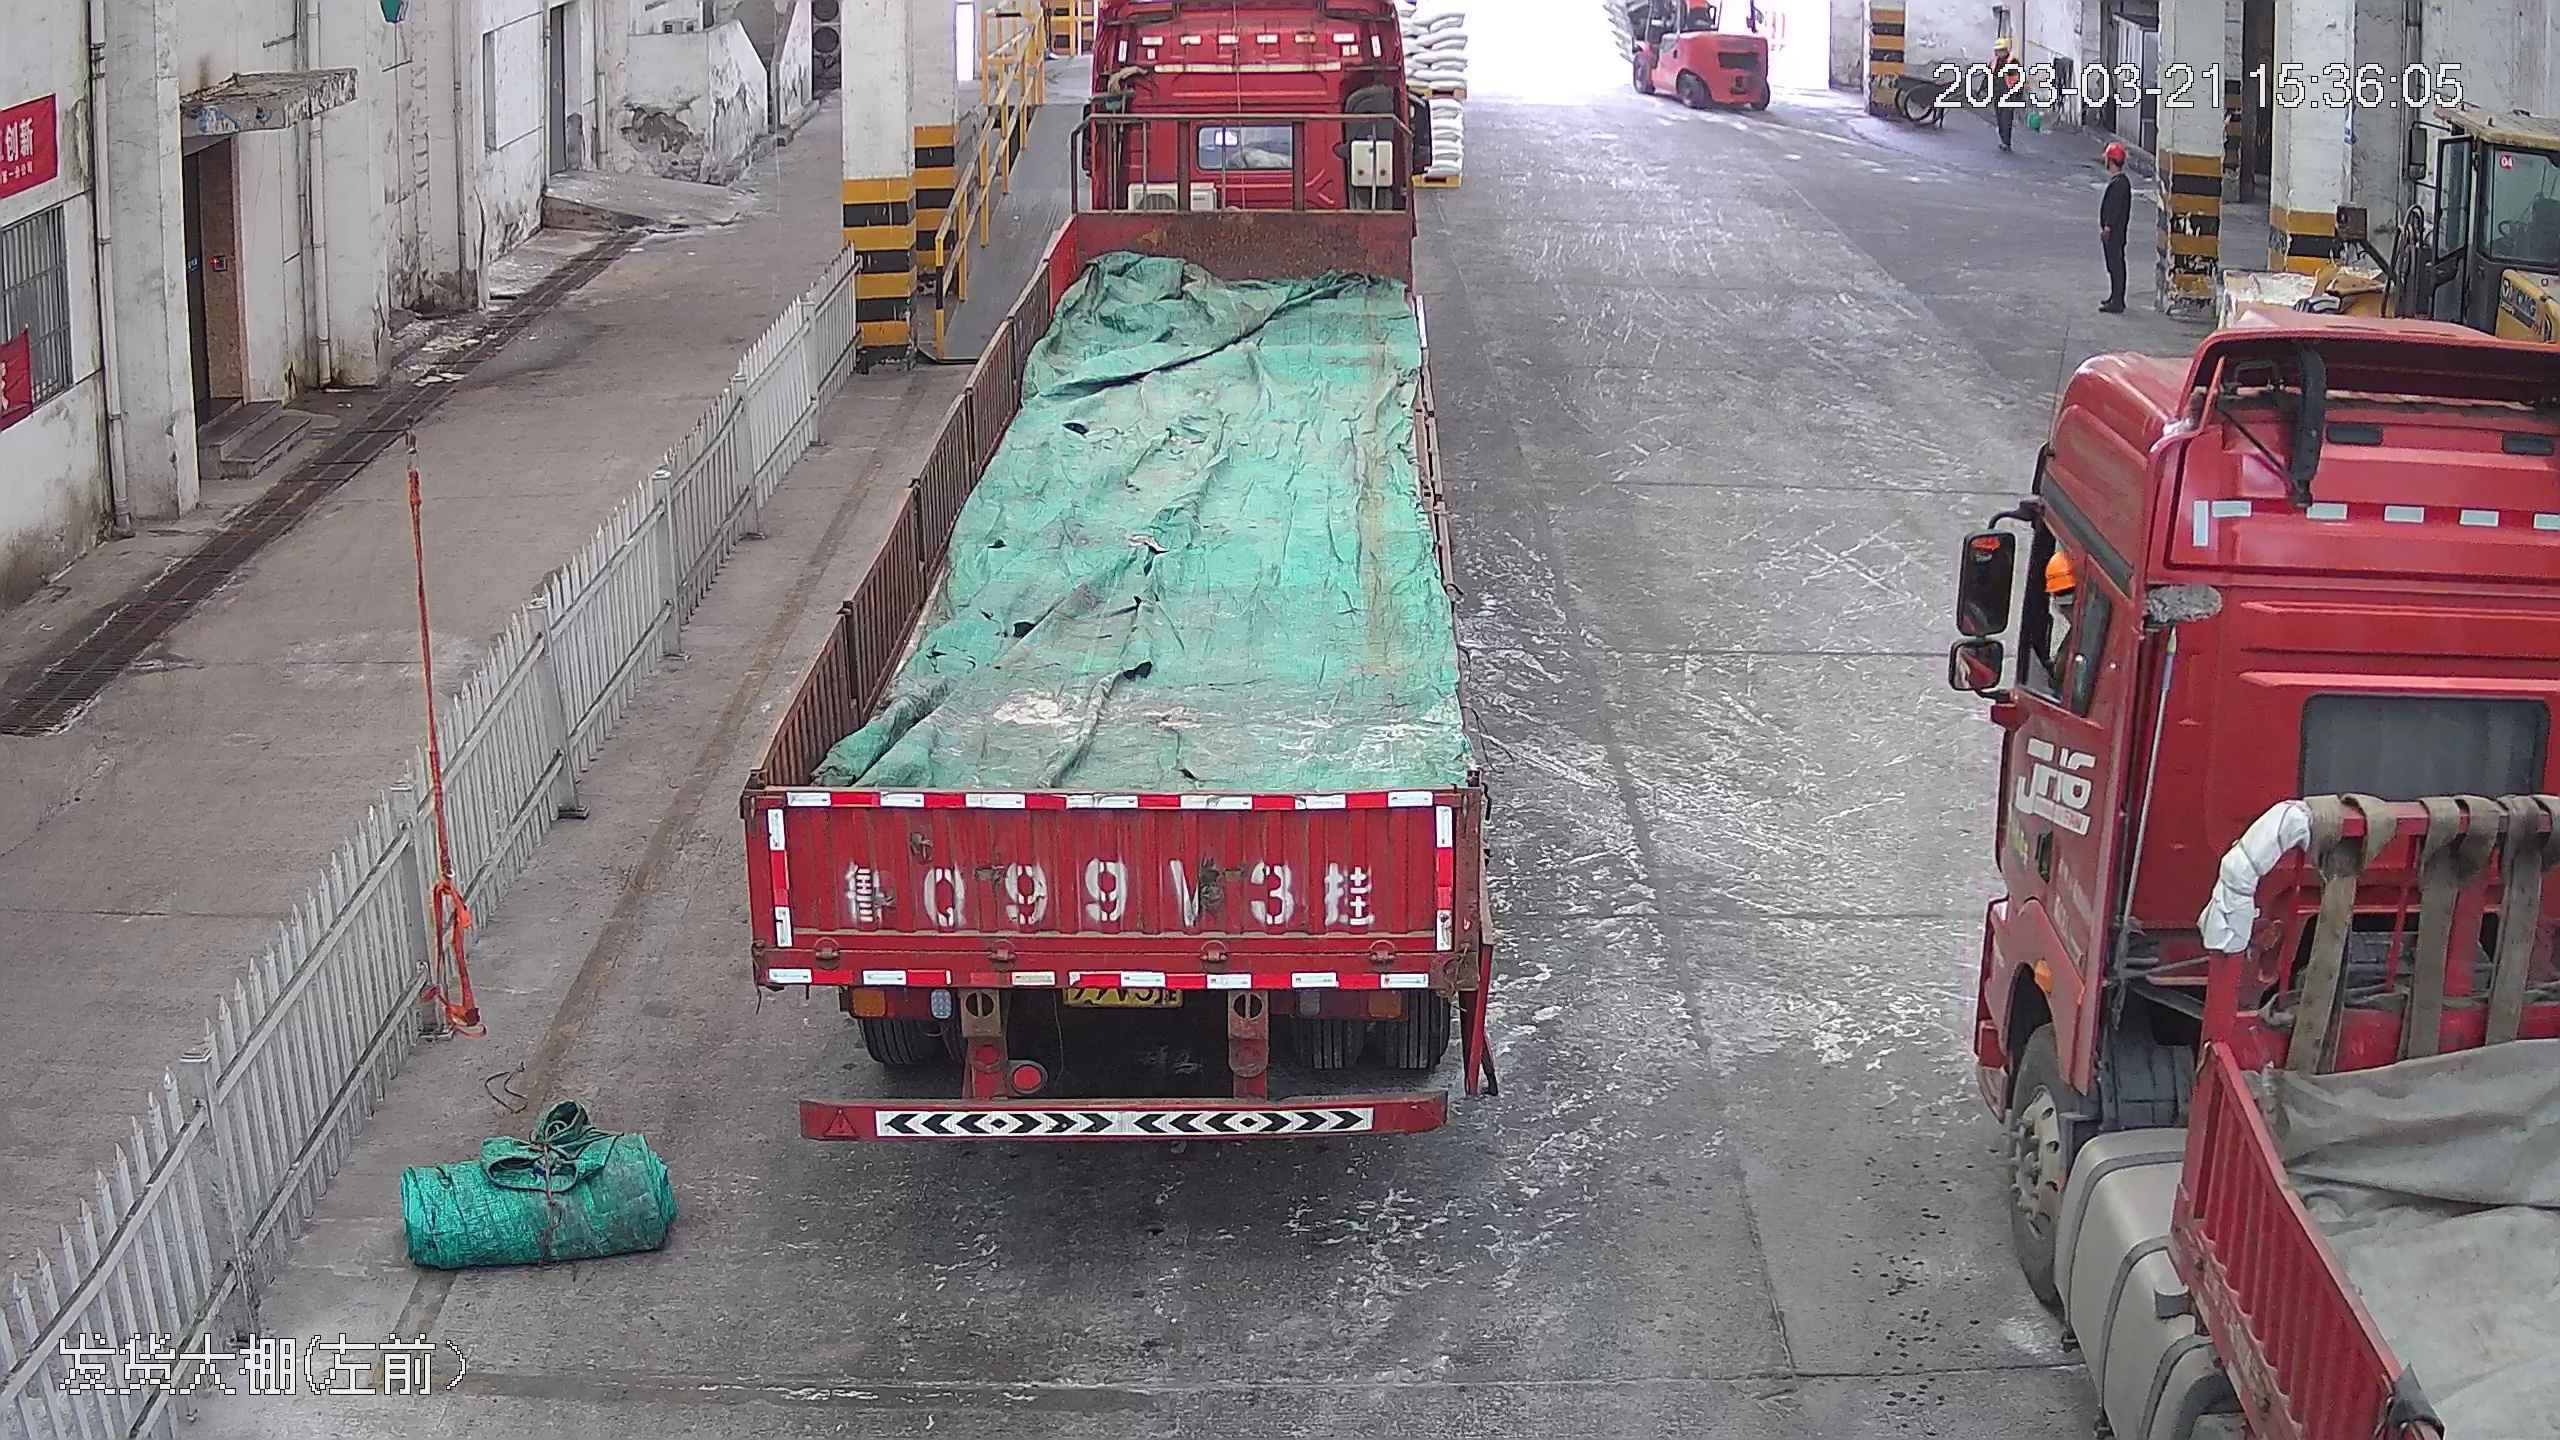head: (2096, 138, 2136, 197), (1988, 35, 2024, 82)
helmet: (2102, 139, 2129, 162), (1993, 34, 2010, 51)
people: (2090, 136, 2143, 310), (1988, 38, 2024, 155)
truck: (749, 1, 1489, 1149), (1934, 307, 2559, 1437)
